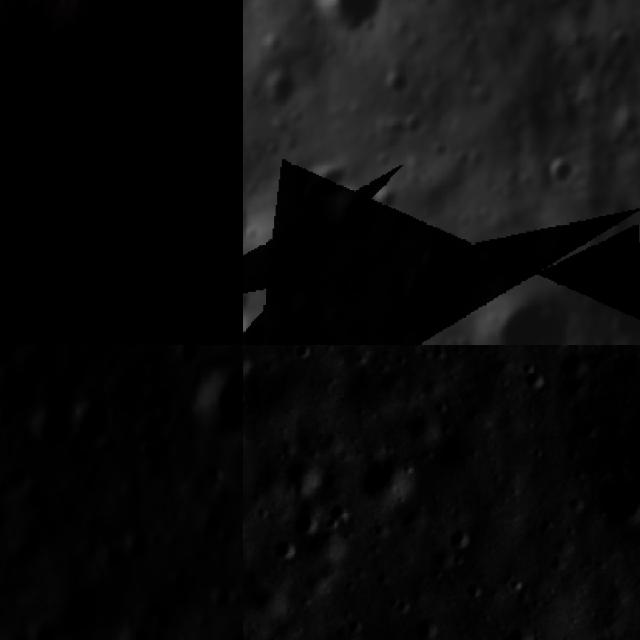crater: (181, 359, 243, 442), (298, 0, 391, 44), (356, 456, 418, 506), (591, 466, 640, 528), (324, 196, 386, 244), (27, 398, 75, 458), (70, 392, 116, 446), (556, 346, 595, 381), (442, 520, 479, 554), (394, 277, 428, 313), (418, 243, 449, 282), (21, 613, 65, 640), (553, 157, 589, 189), (602, 23, 634, 57), (521, 367, 553, 399), (414, 611, 442, 640), (298, 184, 326, 212), (496, 622, 537, 640), (399, 108, 423, 138), (243, 346, 255, 377)
